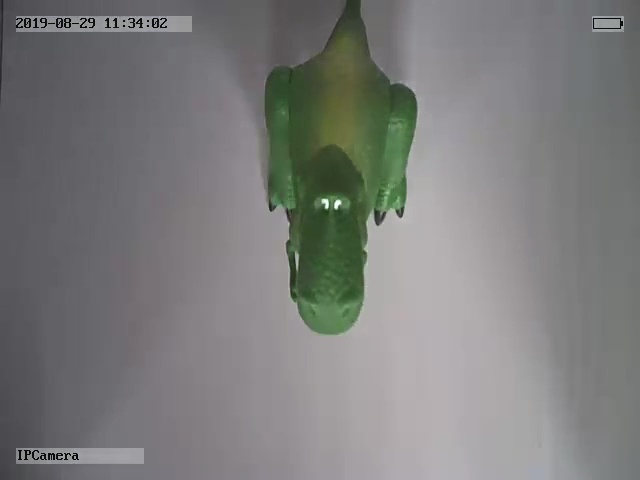rex: (259, 2, 421, 339)
